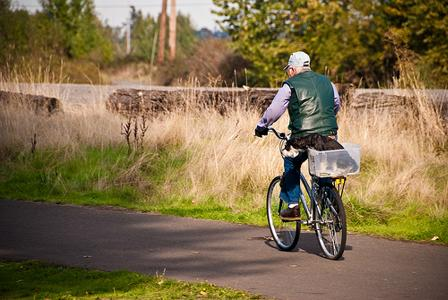person: (256, 49, 344, 223)
